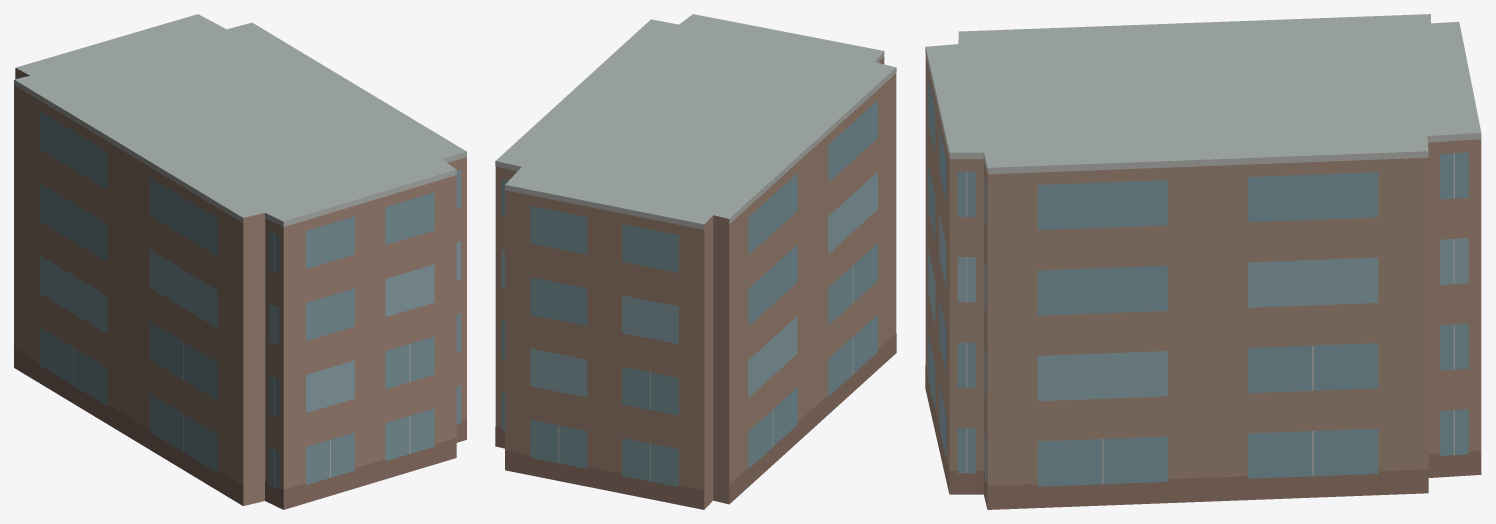
Rendered from survey-upis-32743532.glb.
3 renders of one model, left to right at view 1: azimuth 30°, elevation 25°; view 2: azimuth 150°, elevation 25°; view 3: azimuth 270°, elevation 25°, orthographic. The views are drawn at different scales.
Visible parts, largest first — view 1: survey-upis-32743532.tmp; view 2: survey-upis-32743532.tmp; view 3: survey-upis-32743532.tmp.
Part boxes in pixels (box(x1,y1,x2,y2)): survey-upis-32743532.tmp: box(14, 14, 466, 509); survey-upis-32743532.tmp: box(495, 14, 896, 509); survey-upis-32743532.tmp: box(925, 14, 1481, 509).
Size of the model in its own units: 12.46 by 12.9 by 19.01.
